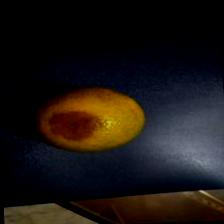Orange Rotten: (24, 72, 148, 161)
